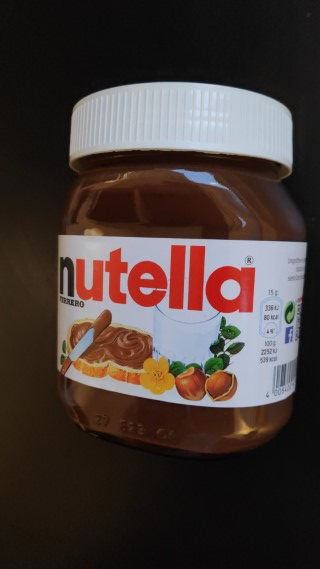nutella: (54, 80, 320, 463)
